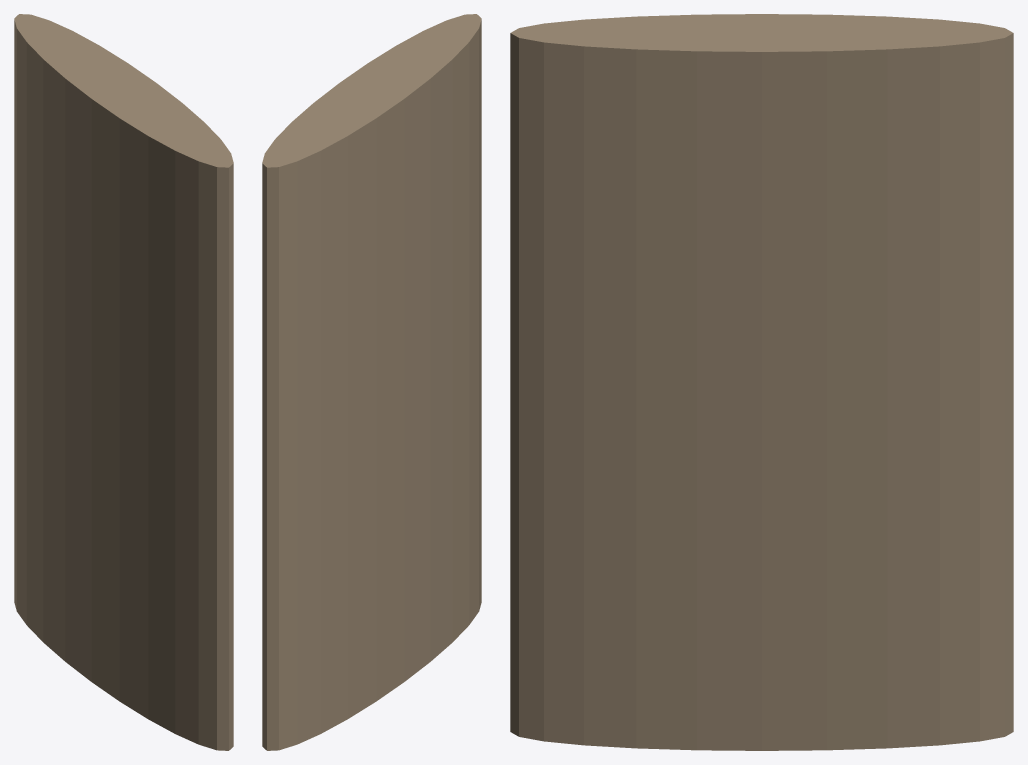
Rendered from own_cyl_56x488x319_5a4630.glb.
3 views of the same model, side by side, from view 1: azimuth 30°, elevation 25°; view 2: azimuth 150°, elevation 25°; view 3: azimuth 270°, elevation 25° (orthographic). The views are drawn at different scales.
Parts seen in each view (by area): view 1: geometry_0; view 2: geometry_0; view 3: geometry_0.
Part boxes in pixels (left/top/right/bottom): geometry_0: left=14, top=14, right=233, bottom=750; geometry_0: left=262, top=14, right=481, bottom=750; geometry_0: left=510, top=14, right=1013, bottom=750.
Bounding box in the file's own units: 0.57 × 4.89 × 3.19.
